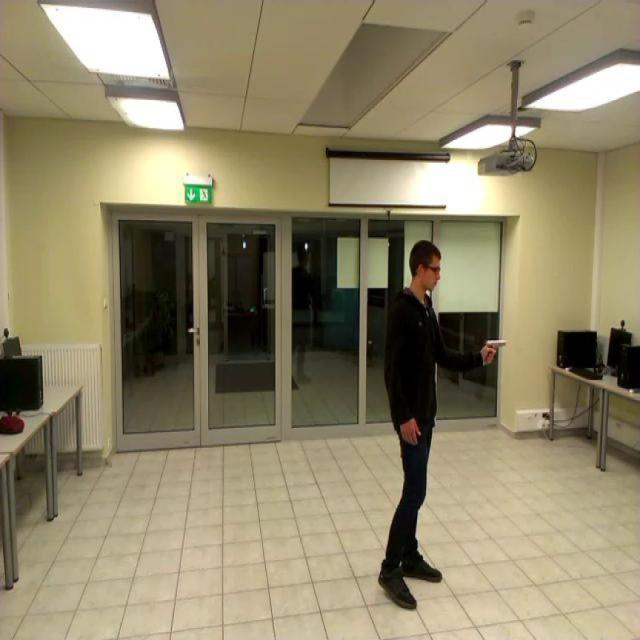pistol: (486, 338, 507, 362)
